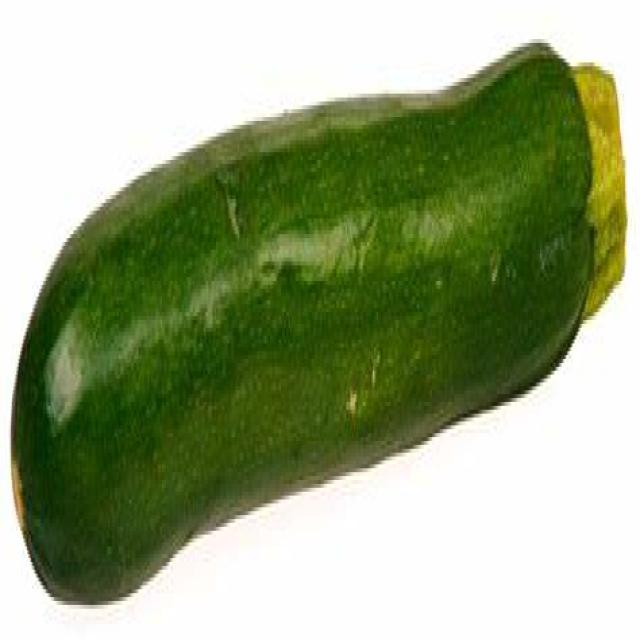Zucchini: (5, 39, 628, 598)
